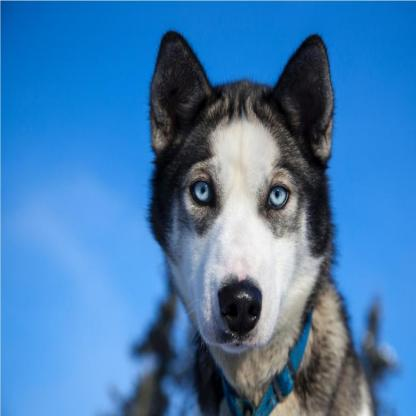husky: (149, 27, 378, 413)
